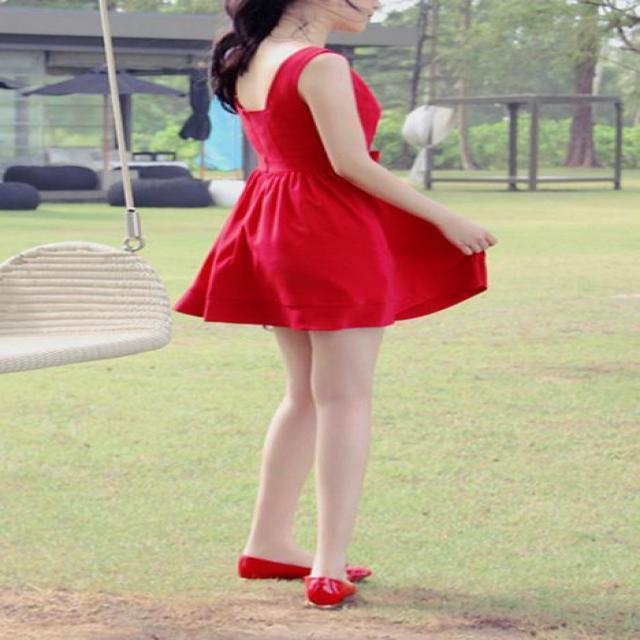short-sleeve-dress: (192, 32, 549, 372)
